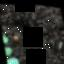Purslane: (0, 3, 64, 64)
